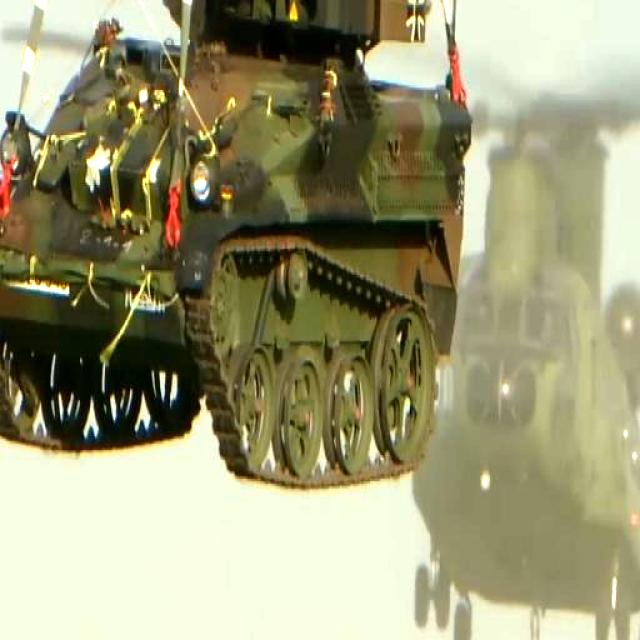drone: (462, 76, 640, 640)
